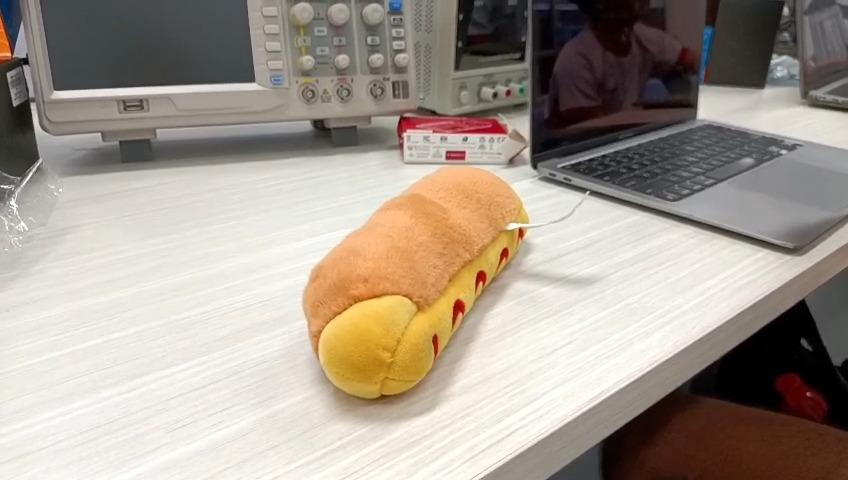hotdog: (303, 166, 529, 401)
